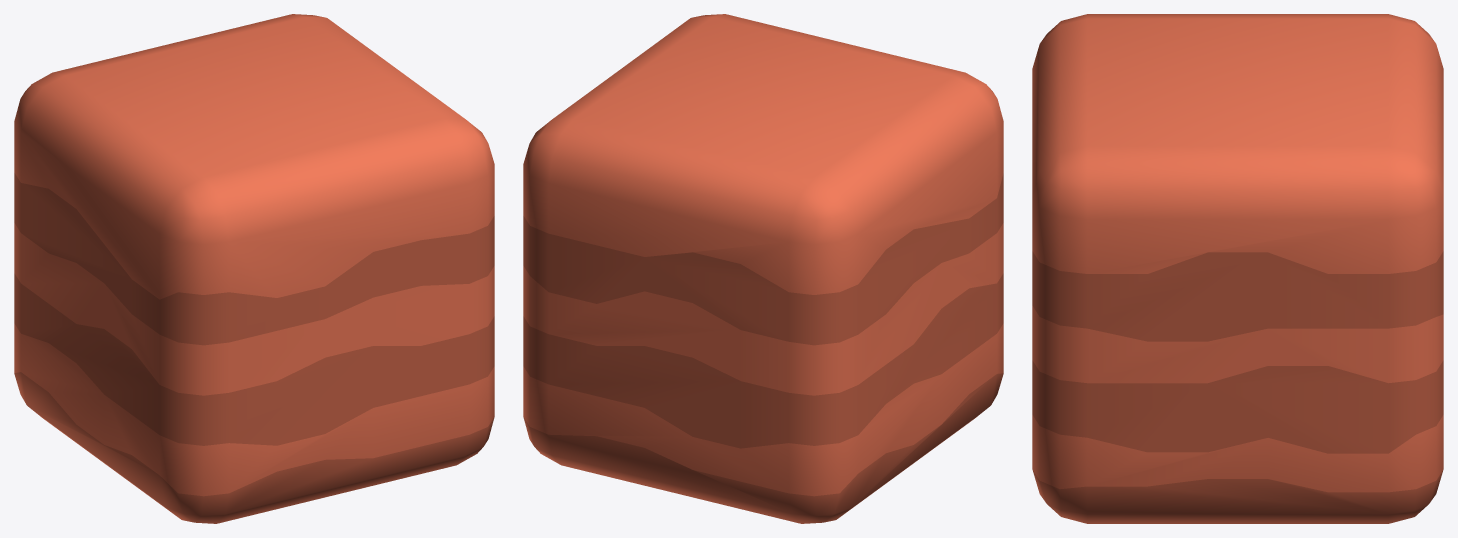
The model's file is Stone022.fbx.
3 renders of one model, left to right at view 1: azimuth 30°, elevation 25°; view 2: azimuth 150°, elevation 25°; view 3: azimuth 270°, elevation 25°, orthographic. The views are drawn at different scales.
Parts seen in each view (by area): view 1: Stone022; view 2: Stone022; view 3: Stone022.
Part boxes in pixels (x1=…): Stone022: x1=14, y1=14, x2=494, y2=523; Stone022: x1=523, y1=14, x2=1003, y2=523; Stone022: x1=1032, y1=14, x2=1443, y2=523.
Bounding box in the file's own units: 156 × 156 × 156.
